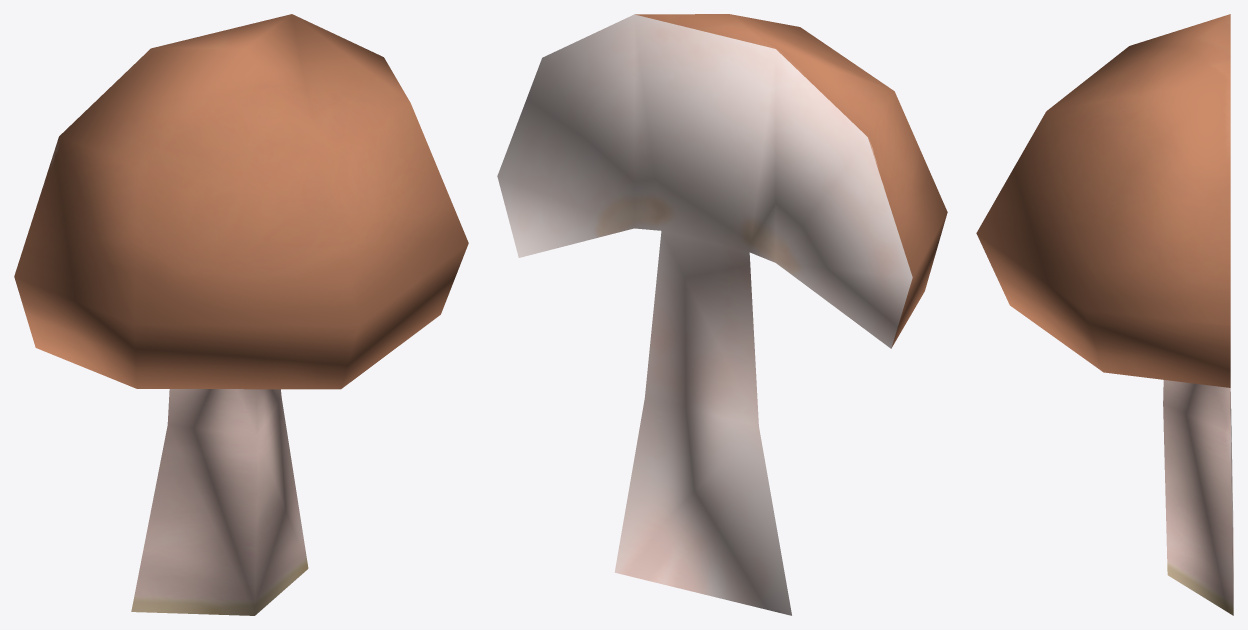
Rendered from Mushroom CUT2.fbx.
The picture shows the model from 3 angles, left to right: view 1: azimuth 30°, elevation 25°; view 2: azimuth 150°, elevation 25°; view 3: azimuth 270°, elevation 25°; orthographic projection. The views are drawn at different scales.
Visible parts, largest first — view 1: Mushroom CUT2; view 2: Mushroom CUT2; view 3: Mushroom CUT2.
Boxes of the visible parts, <box> form: Mushroom CUT2: <box>14,14,468,615</box>; Mushroom CUT2: <box>497,14,947,615</box>; Mushroom CUT2: <box>976,14,1233,615</box>.
Size of the model in its own units: 27.72 by 35.79 by 15.79.
